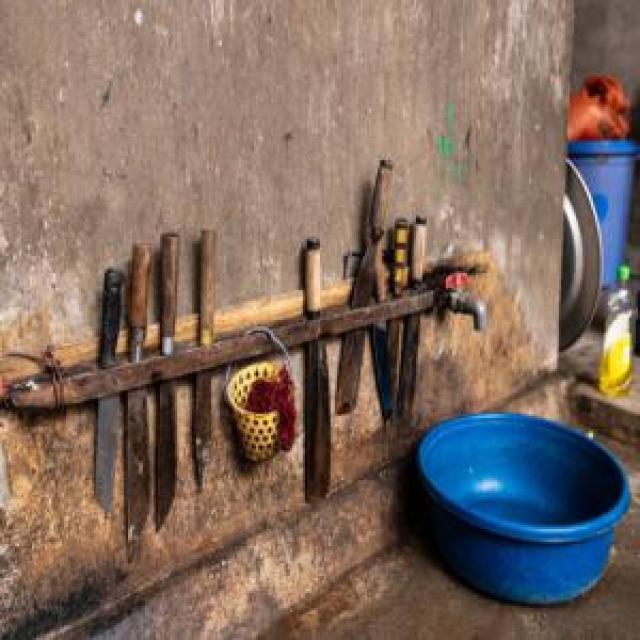knife: (337, 160, 397, 415), (128, 198, 155, 557), (154, 230, 184, 545), (341, 252, 395, 426), (301, 230, 332, 502), (192, 228, 219, 489), (399, 211, 429, 420), (380, 213, 410, 414), (102, 264, 125, 504)
